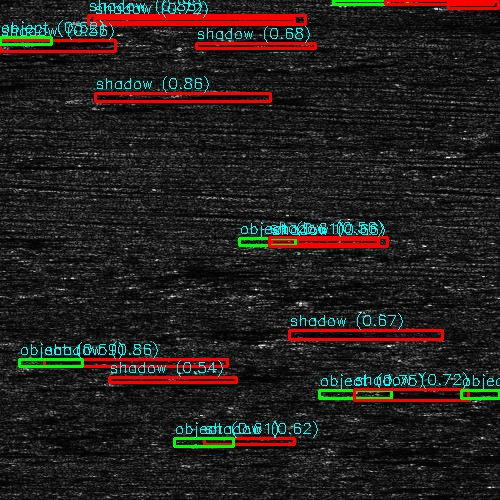rock: (268, 230, 299, 255), (3, 359, 76, 368), (301, 330, 342, 339), (63, 96, 136, 101), (465, 390, 500, 399), (79, 18, 142, 23)
shadow: (284, 230, 423, 255), (322, 330, 500, 339), (40, 359, 201, 368), (111, 18, 287, 23), (100, 96, 275, 101), (0, 235, 40, 240)
